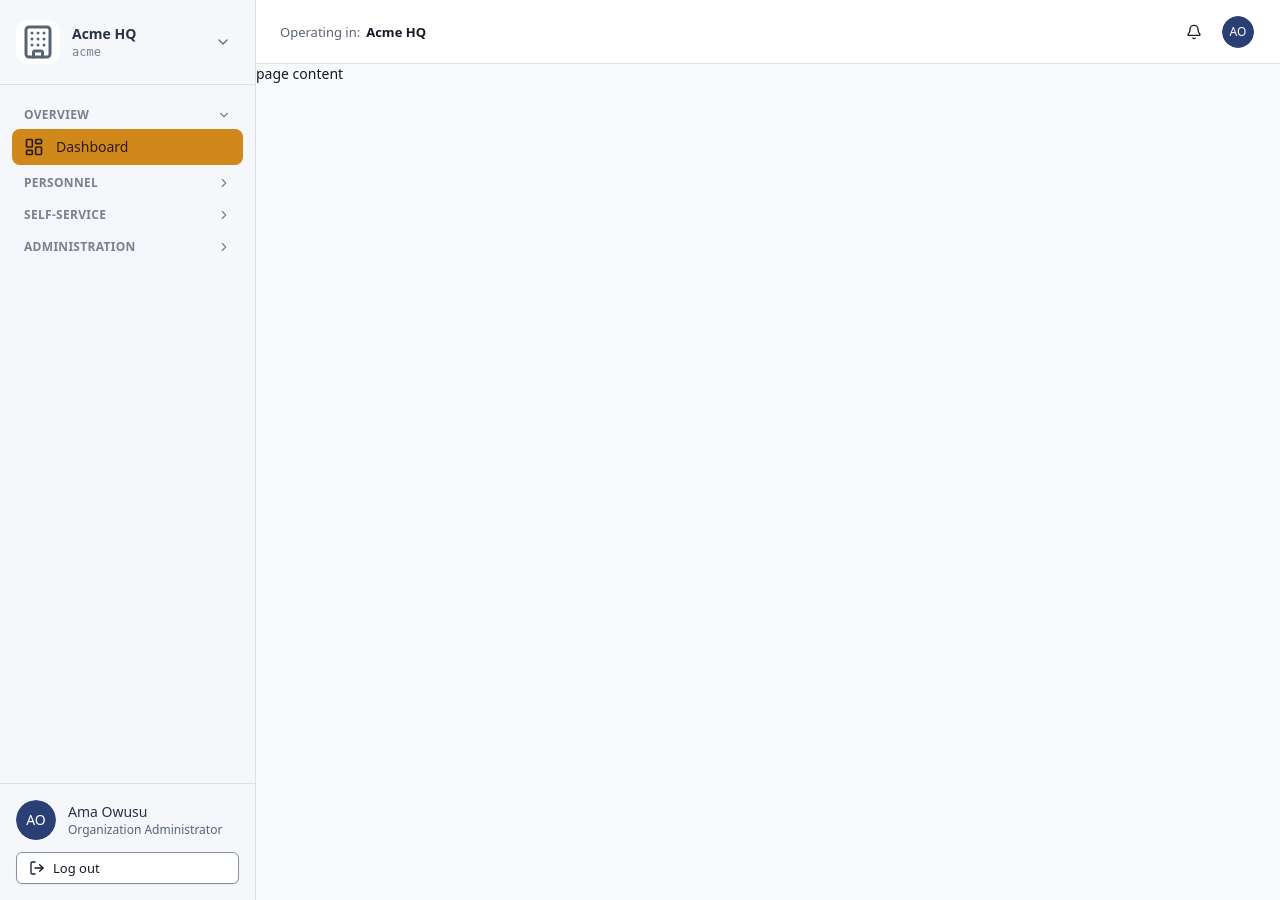
Scenario: AppShell organisation switcher › lists every organisation the caller belongs to when opened
This screenshot has width=1280, height=900.
What coordinates should you click on to do the following:
click the button with test id "button-org-selector"
I would click on:
 (124, 42)
Its box is [12,16,235,68].
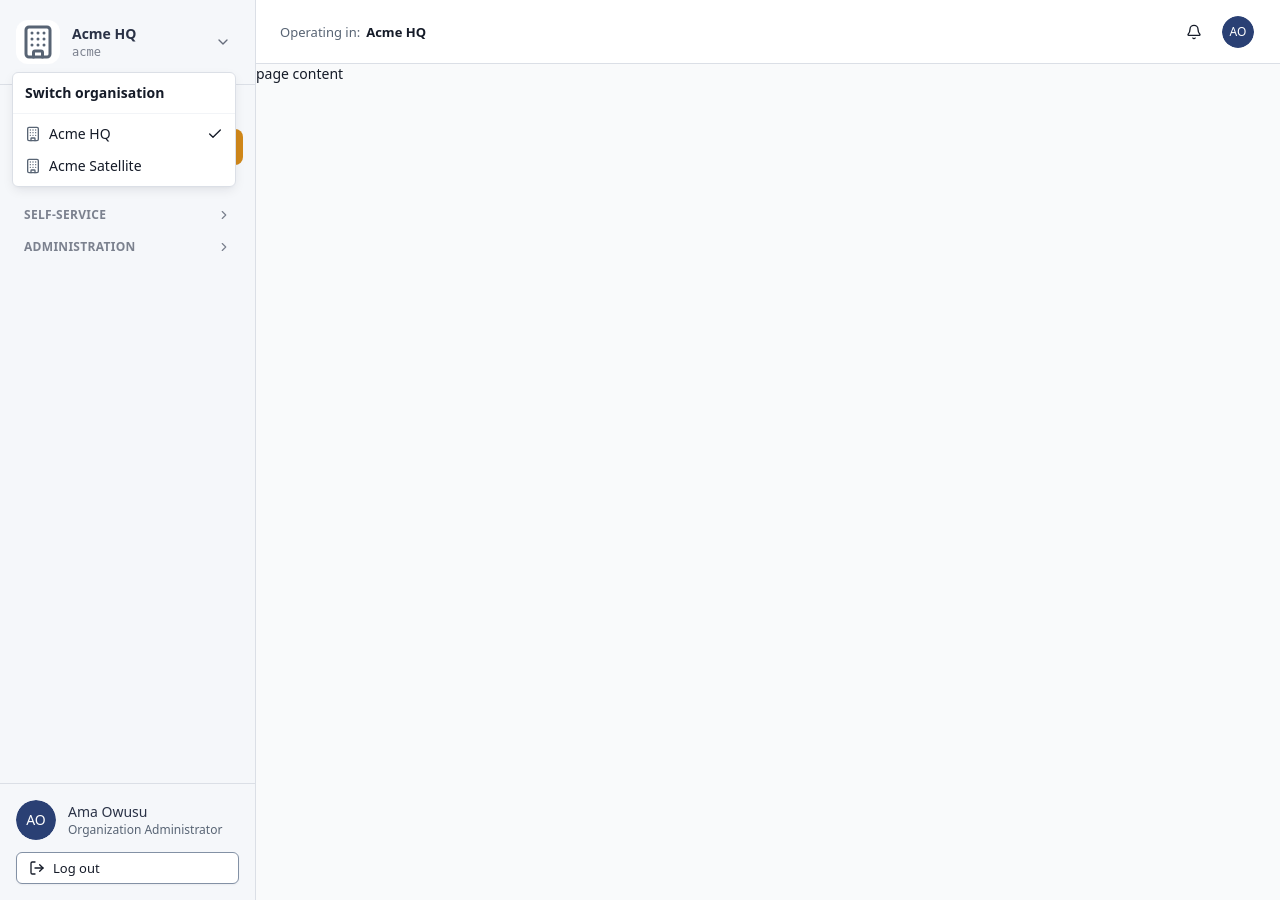
Check: the menu item with test id "option-org-10" is shown, box [25,124,223,143]
Check: the menu item with test id "option-org-20" is shown, box [25,156,142,175]
